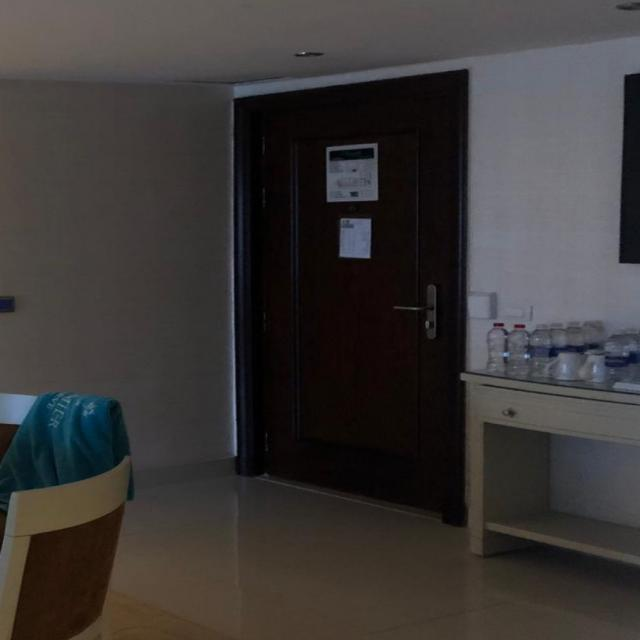door-handle: (392, 285, 436, 338)
